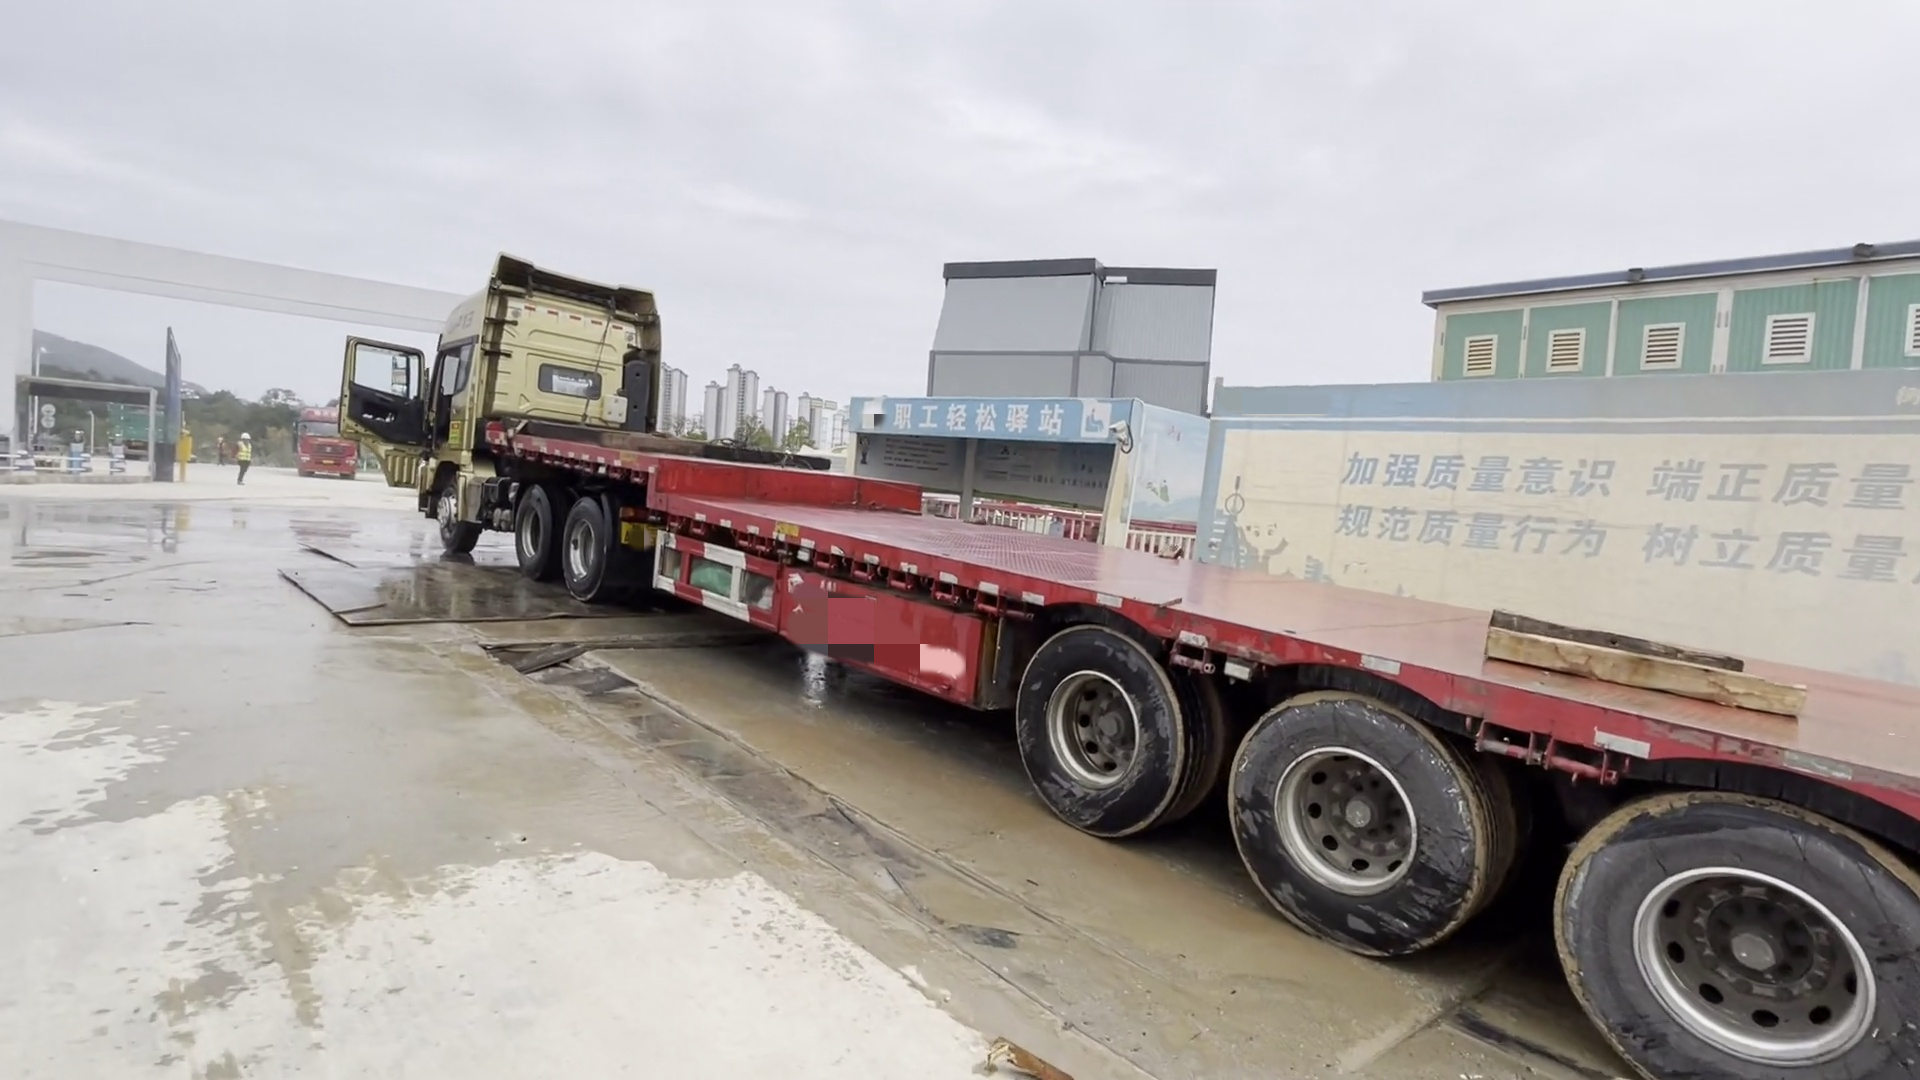helmet: (240, 433, 252, 440)
person: (233, 431, 255, 486), (212, 435, 229, 467)
slogan: (1318, 424, 1920, 670)
vest: (237, 444, 252, 462)
